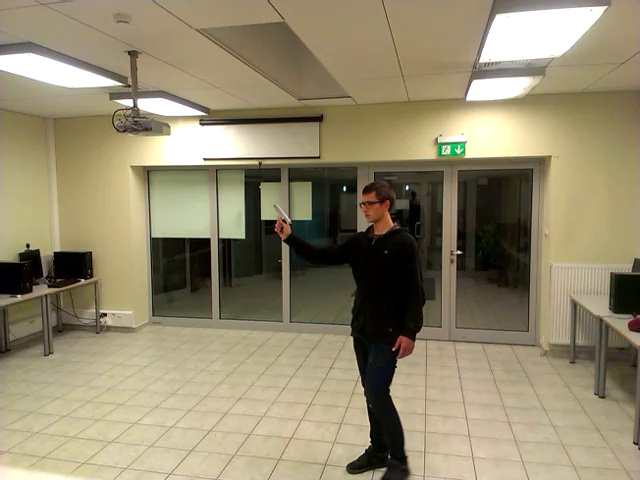gun: (263, 183, 301, 248)
